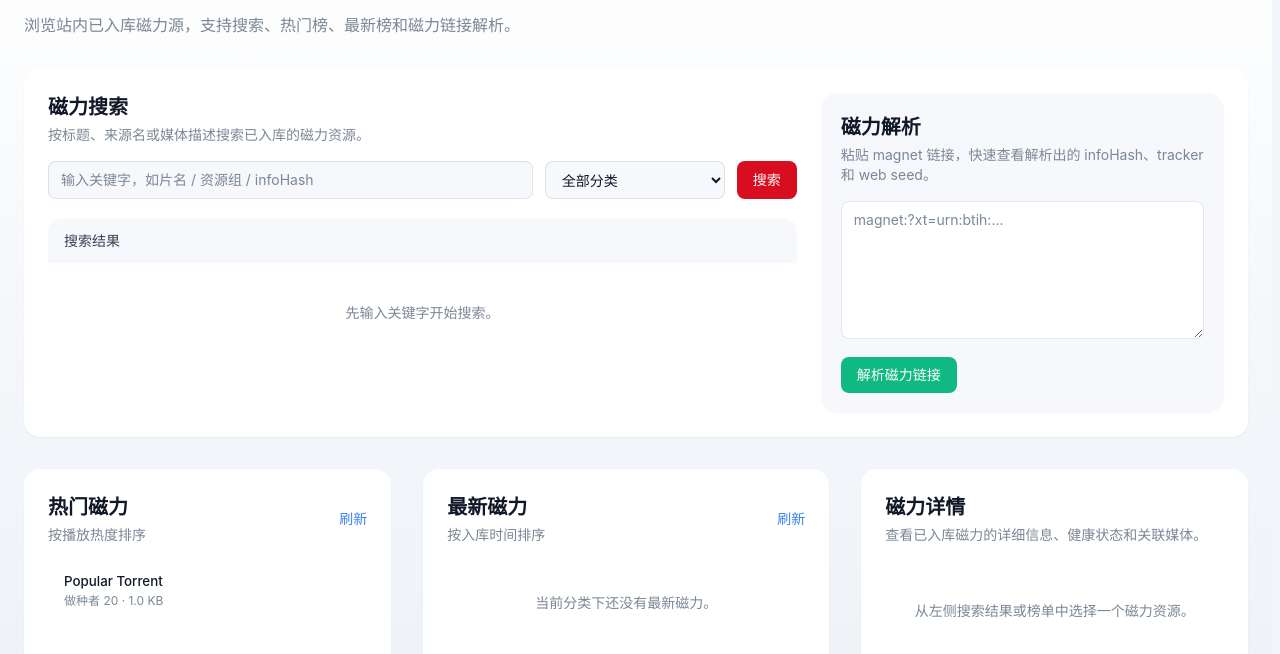
Test case: TorrentView › queues the selected magnet and attempts to launch the local client
Type "Demo" into the field with placeholder "输入关键字，如片名 / 资源组 / infoHash".
click(290, 180); type("Demo")  # box [48,161,533,199]
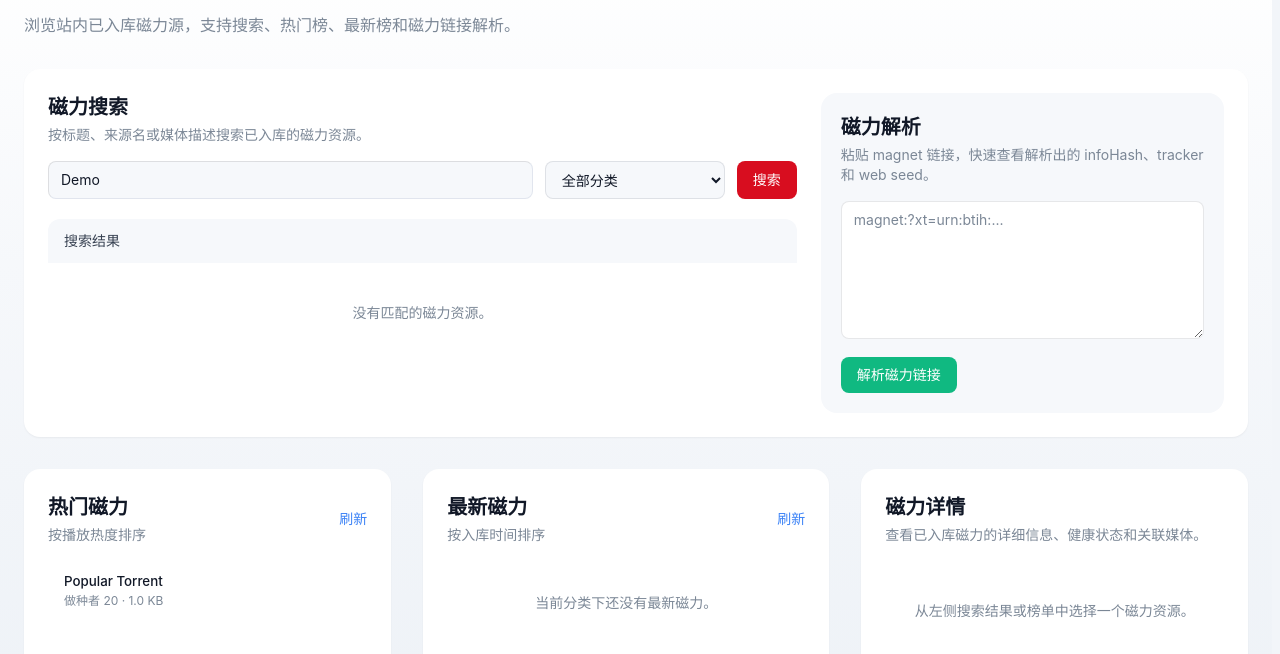
Submit the form "搜索", box [48,161,797,199]
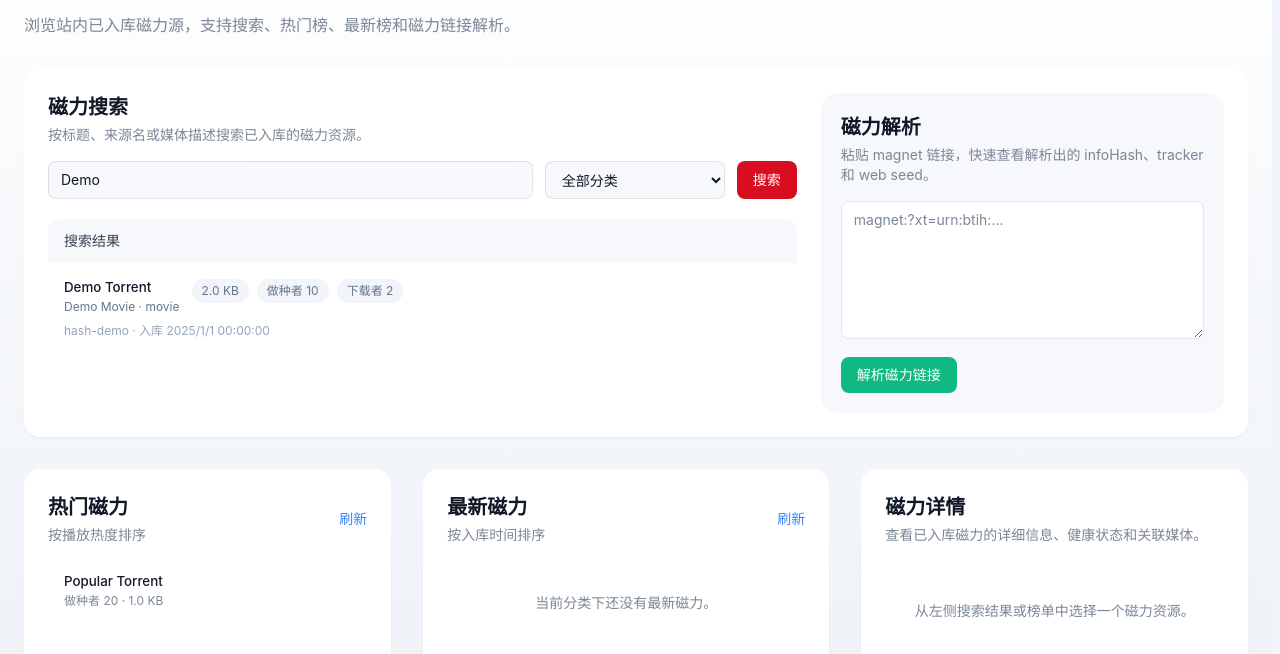
Now the button that starts with "Demo Torrent" is shown
Click the button that starts with "Demo Torrent".
click(108, 287)  # box [48,263,797,355]
(page scrolled)
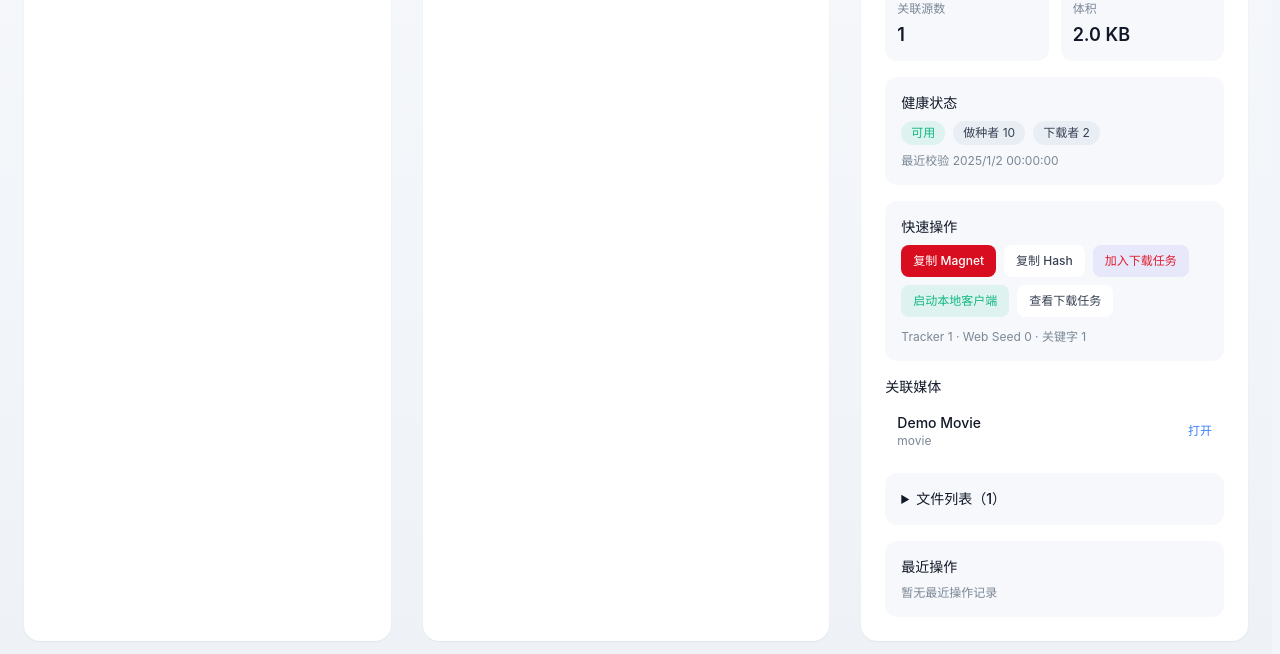
Now the button "启动本地客户端" is shown
Click the button "启动本地客户端".
click(955, 301)  # box [901,285,1009,317]
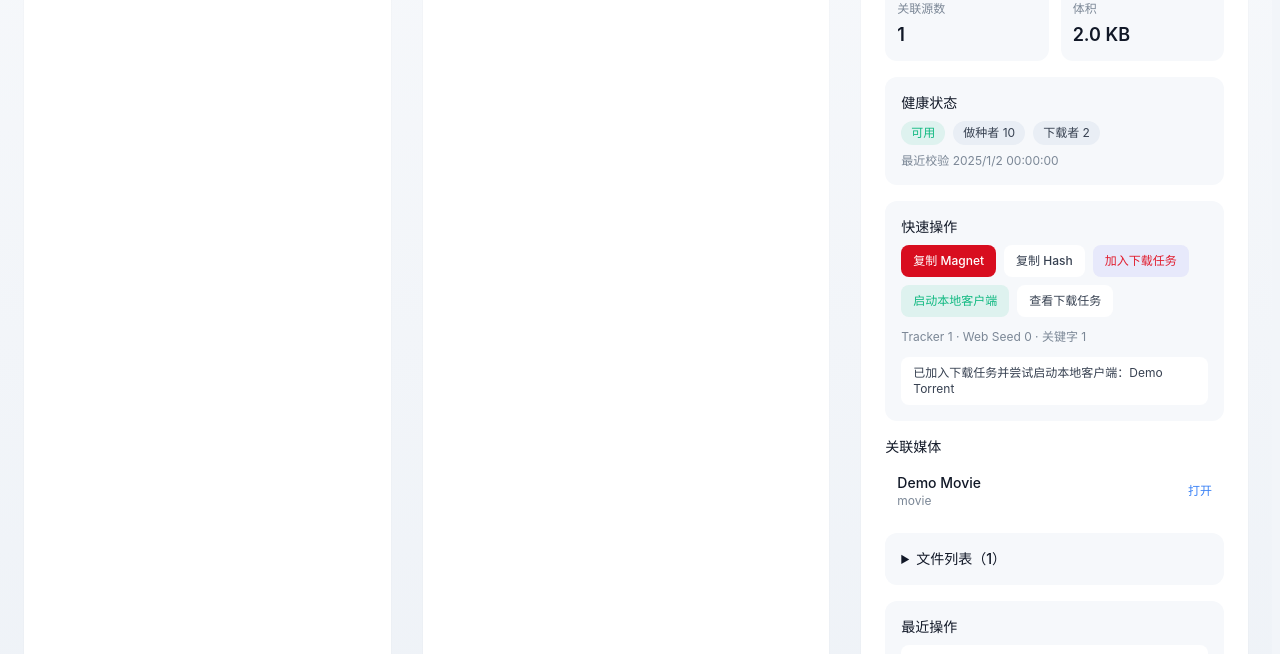
Now the text "已加入下载任务并尝试启动本地客户端：Demo Torrent" is shown, box [901,357,1208,405]
